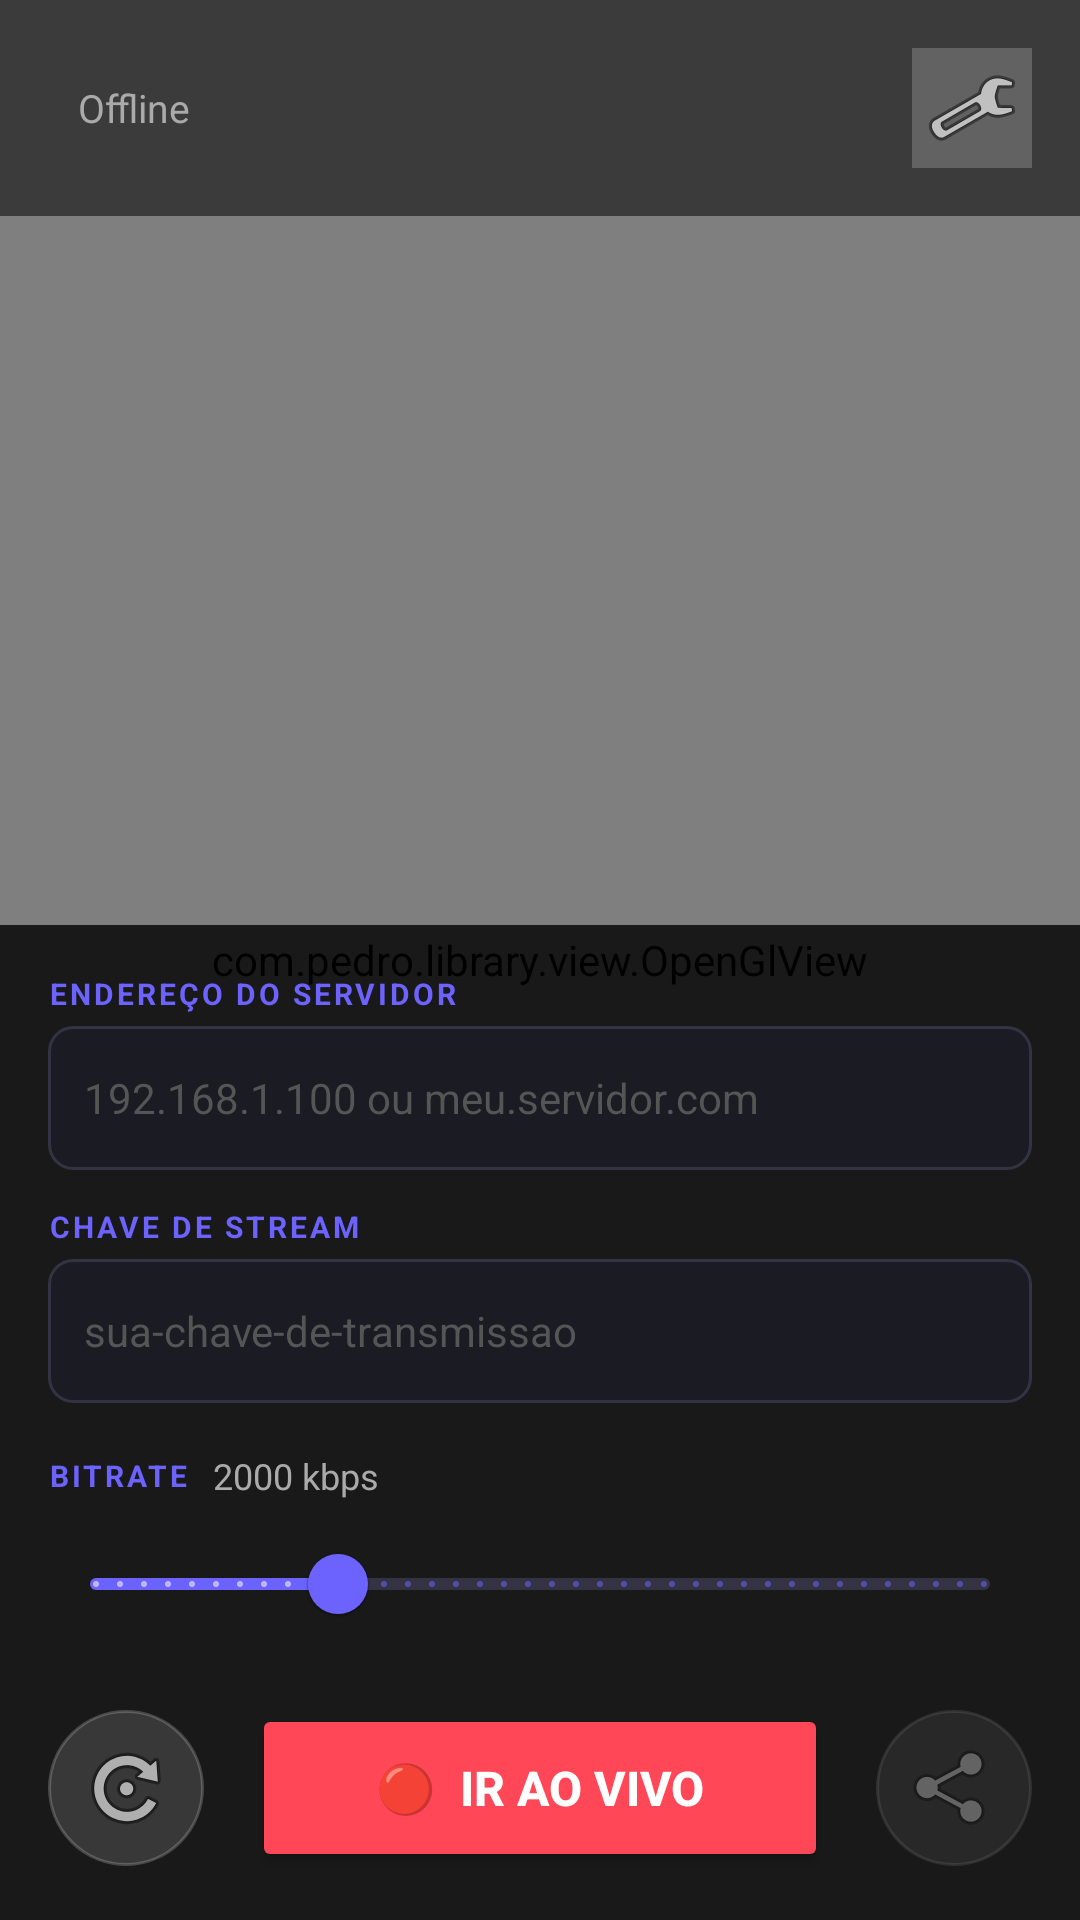

Icons on this 1080px x 1920px Android screen, each with the point to tap as [x,y]:
Configurações: [972,108]
Virar câmera: [126,1788]
